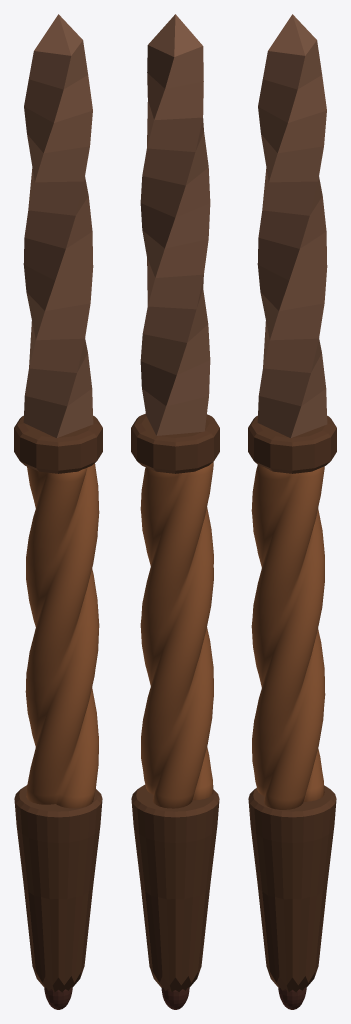
File: Wand 856.glb
3 renders of one model, left to right at view 1: azimuth 90°, elevation 25°; view 2: azimuth 150°, elevation 25°; view 3: azimuth 270°, elevation 25°, orthographic.
Parts seen in each view (by area): view 1: GeneratedWand; view 2: GeneratedWand; view 3: GeneratedWand.
Part boxes in pixels (x1,y1,x2,y2): GeneratedWand: (14, 14, 102, 1009); GeneratedWand: (131, 14, 219, 1009); GeneratedWand: (248, 14, 336, 1009).
Bounding box in the file's own units: 0.0398 × 0.4911 × 0.0398.
